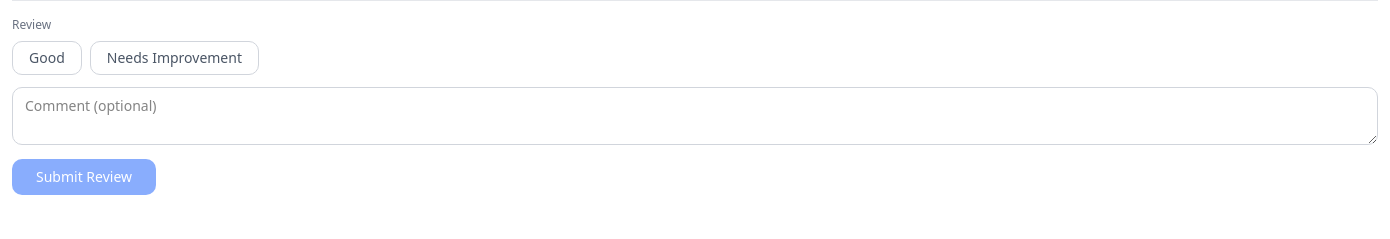
Test: does not close or claim saved when a review receives 401
Click the button "Good".
click(47, 58)  # box [12,41,82,75]
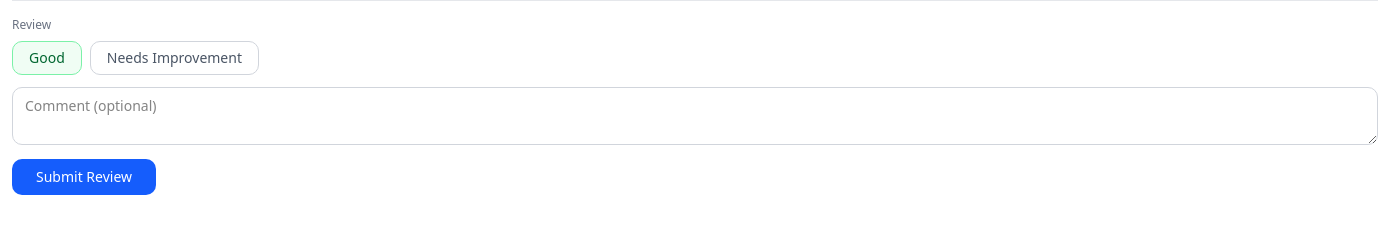
Type "Keep draft" into the text box named "Review comment".
click(695, 116); type("Keep draft")  # box [12,87,1378,145]
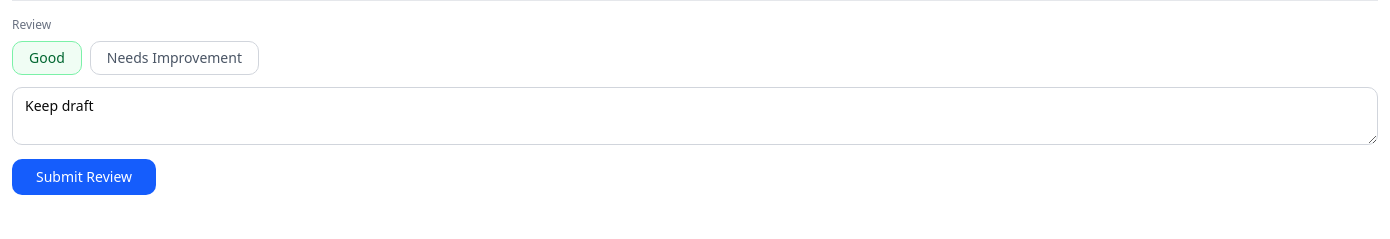
Click the button "Submit Review".
click(84, 177)  # box [12,159,156,195]
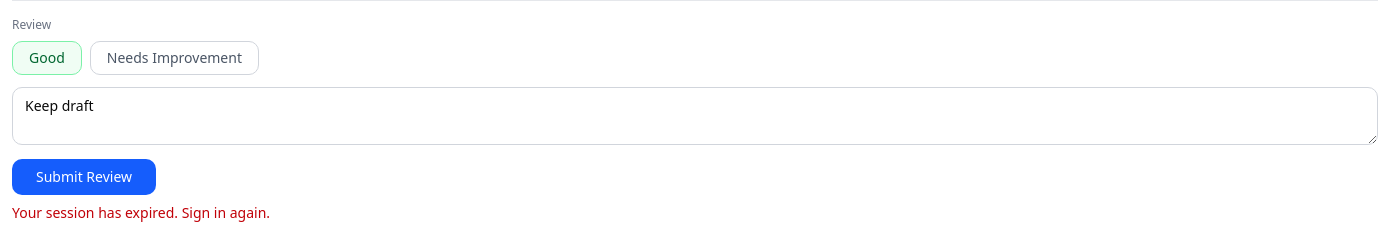
Expected: the message shows "session has expired", [12,203,270,222]
